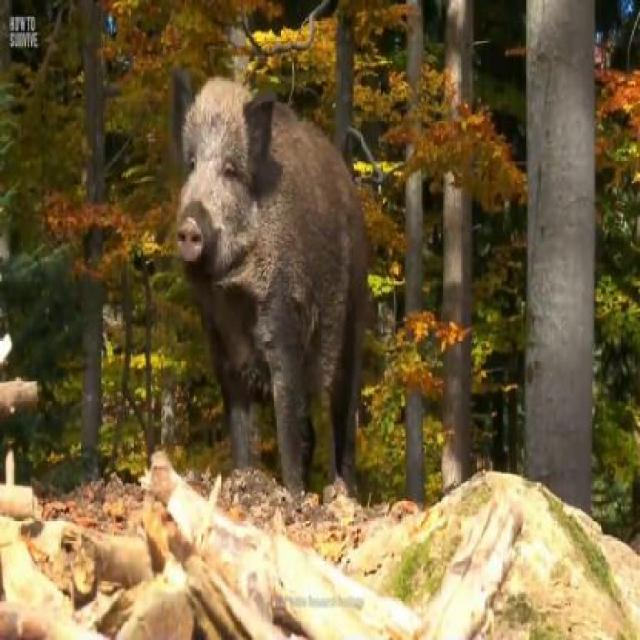pig: (158, 39, 386, 512)
